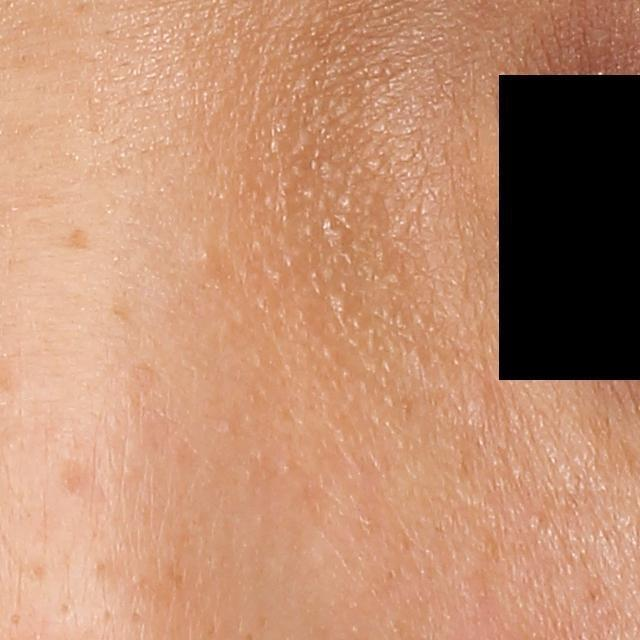comedo: (198, 246, 217, 266)
melasma: (60, 223, 93, 252)
